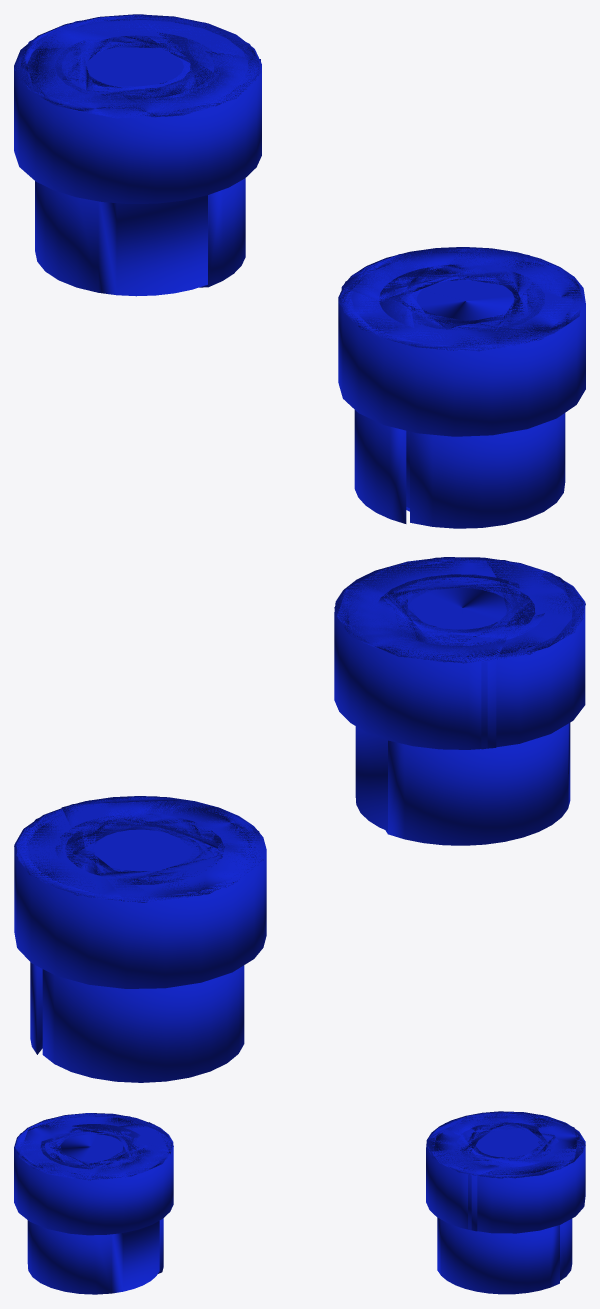
Rendered from tuyeau_element_000019.obj.
The picture shows the model from 3 angles, top to bottom: view 1: azimuth 30°, elevation 25°; view 2: azimuth 150°, elevation 25°; view 3: azimuth 270°, elevation 25°; orthographic projection. The views are drawn at different scales.
Visible parts, largest first — view 1: tuyeau2_Cube.017, tuyeau1_Cube.014; view 2: tuyeau2_Cube.017, tuyeau1_Cube.014; view 3: tuyeau1_Cube.014, tuyeau2_Cube.017.
Part boxes in pixels (left/top/right/bottom): tuyeau2_Cube.017: left=338, top=247, right=585, bottom=528; tuyeau1_Cube.014: left=14, top=14, right=261, bottom=296; tuyeau2_Cube.017: left=334, top=557, right=585, bottom=845; tuyeau1_Cube.014: left=14, top=796, right=266, bottom=1082; tuyeau1_Cube.014: left=426, top=1111, right=585, bottom=1294; tuyeau2_Cube.017: left=14, top=1113, right=173, bottom=1294.
Size of the model in its own units: 3600 by 2917 by 12610.
